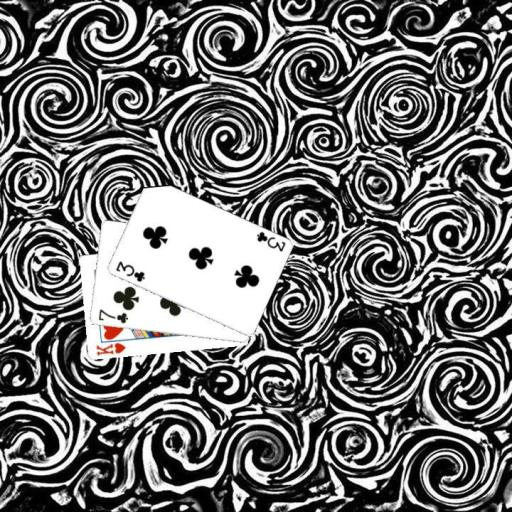3C: (112, 258, 146, 284), (253, 228, 287, 253)
7C: (95, 306, 130, 325)
KH: (93, 340, 127, 357)
